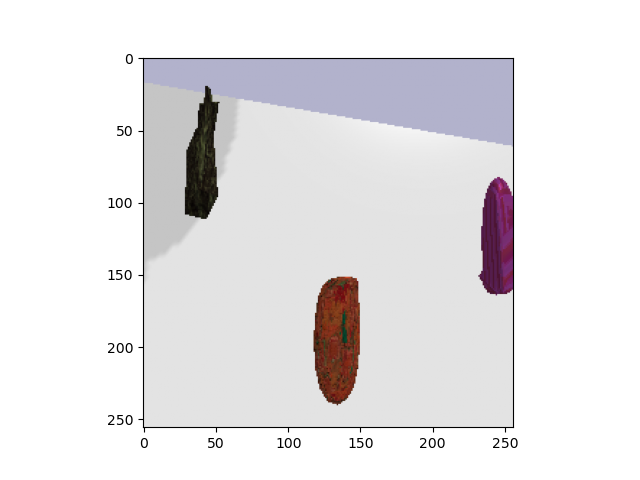v249b387_105: (474, 172, 515, 298)
v249b387_106: (309, 275, 366, 410)
v249b387_109: (175, 84, 239, 221)
